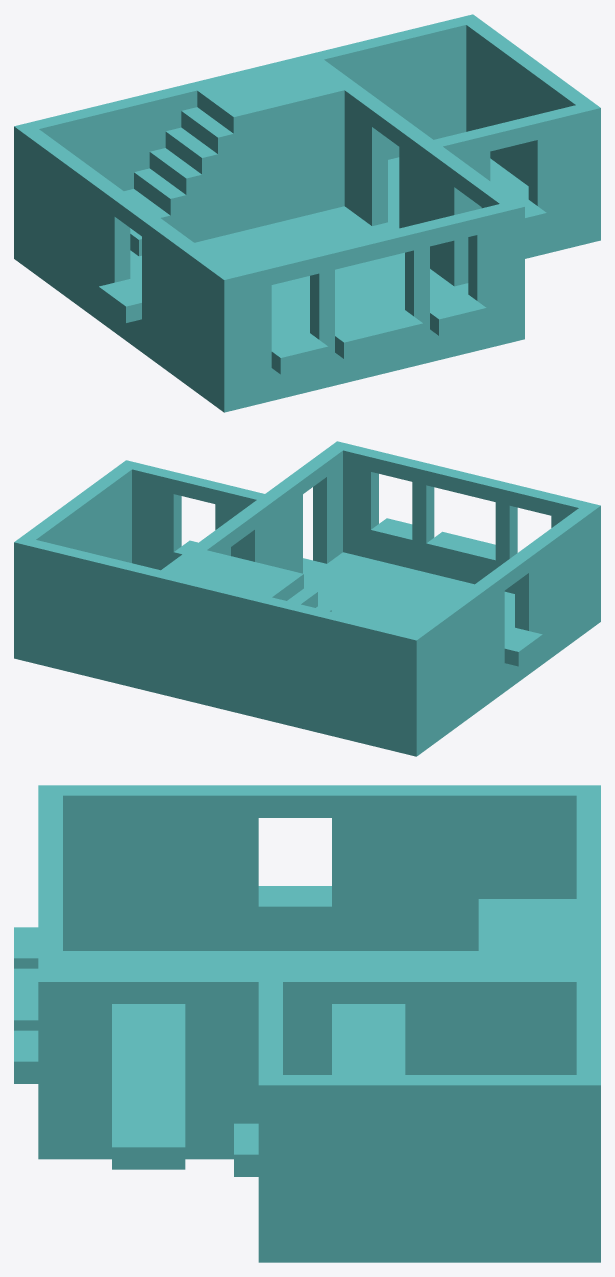
The model's file is floor_one.gltf.
3 renders of one model, top to bottom at view 1: azimuth 30°, elevation 25°; view 2: azimuth 150°, elevation 25°; view 3: azimuth 270°, elevation 25°, orthographic. The views are drawn at different scales.
Visible parts, largest first — view 1: 1st floor; view 2: 1st floor; view 3: 1st floor.
Boxes of the visible parts, <box> form: 1st floor: <box>14,14,600,412</box>; 1st floor: <box>14,441,600,756</box>; 1st floor: <box>14,785,600,1262</box>.
Size of the model in its own units: 3 by 0.8 by 2.4.
1 material, 1 textured.
